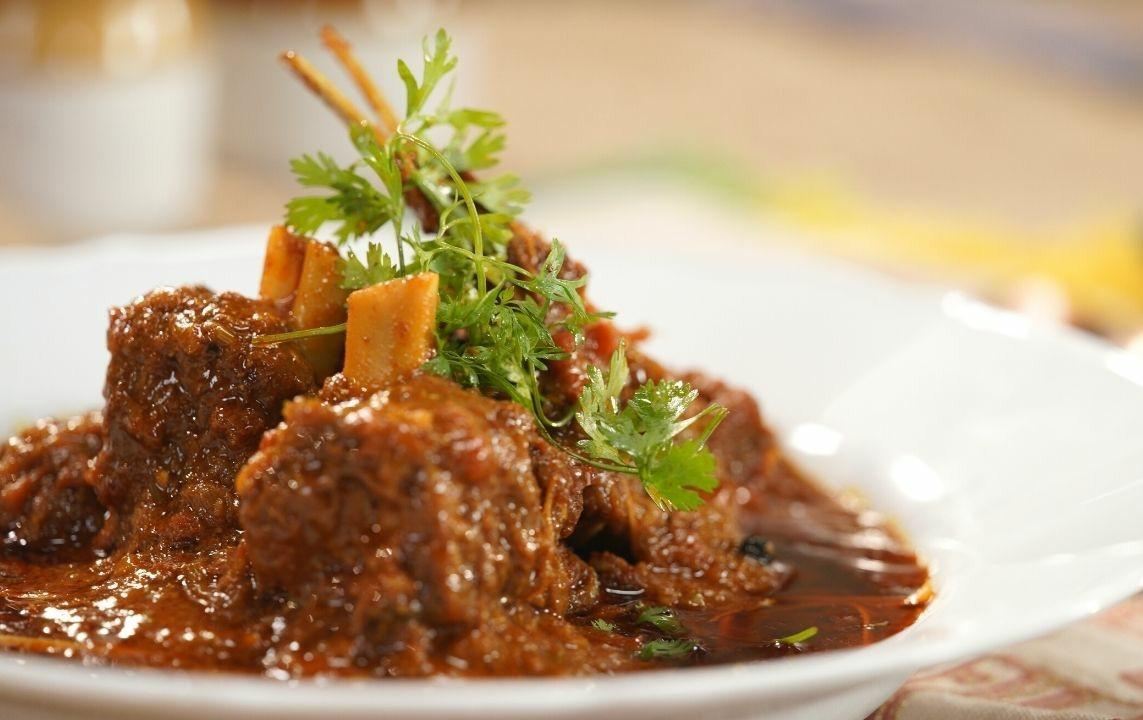MuttonCurry: (0, 198, 929, 680)
